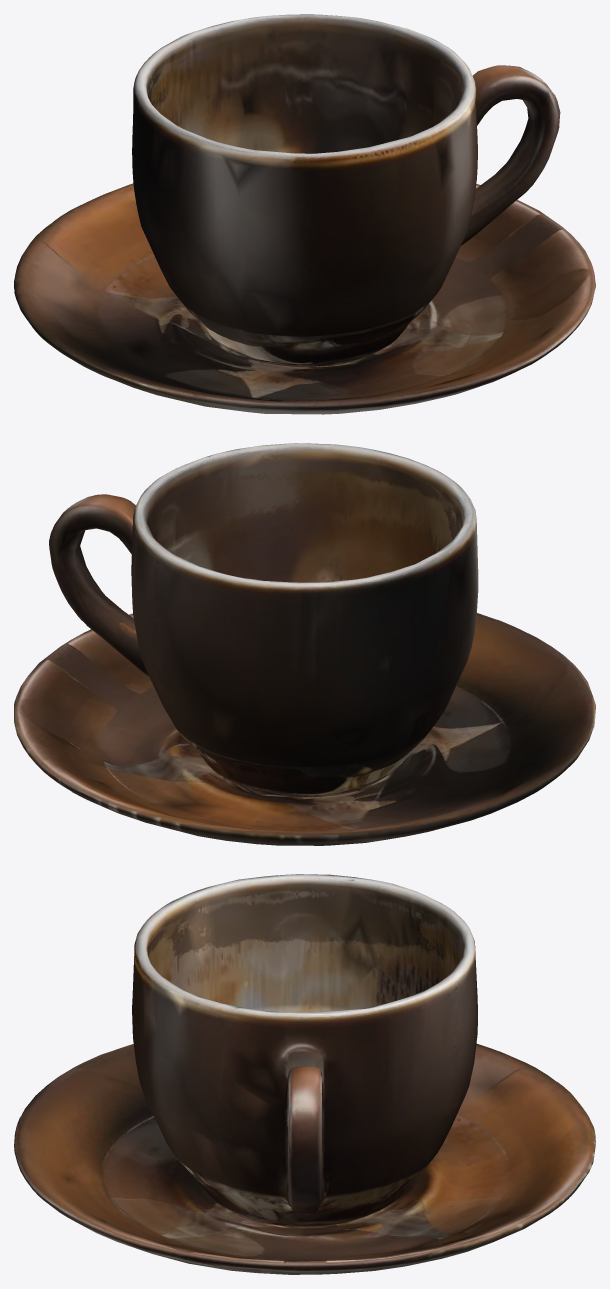
The model's file is coffee-cup.glb.
3 renders of one model, top to bottom at view 1: azimuth 30°, elevation 25°; view 2: azimuth 150°, elevation 25°; view 3: azimuth 270°, elevation 25°, orthographic.
Bounding box in the file's own units: 1.99 × 0.988 × 2.
Materials: 1 (1 with a texture image).
